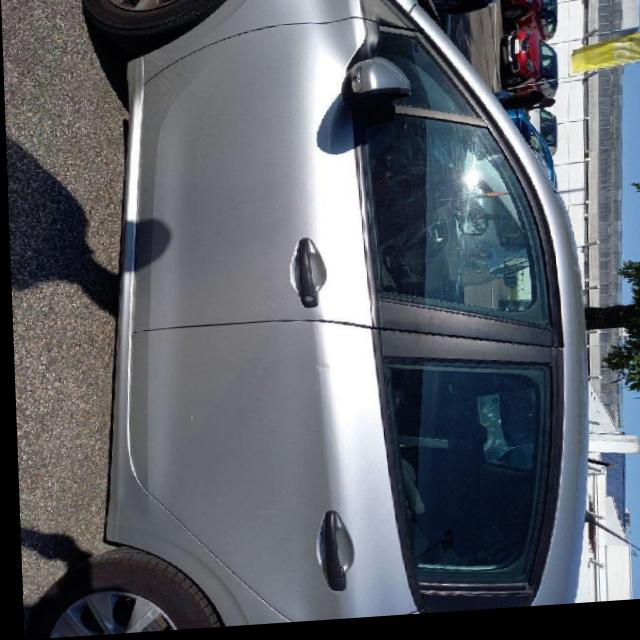porte-avant: (117, 11, 563, 380)
